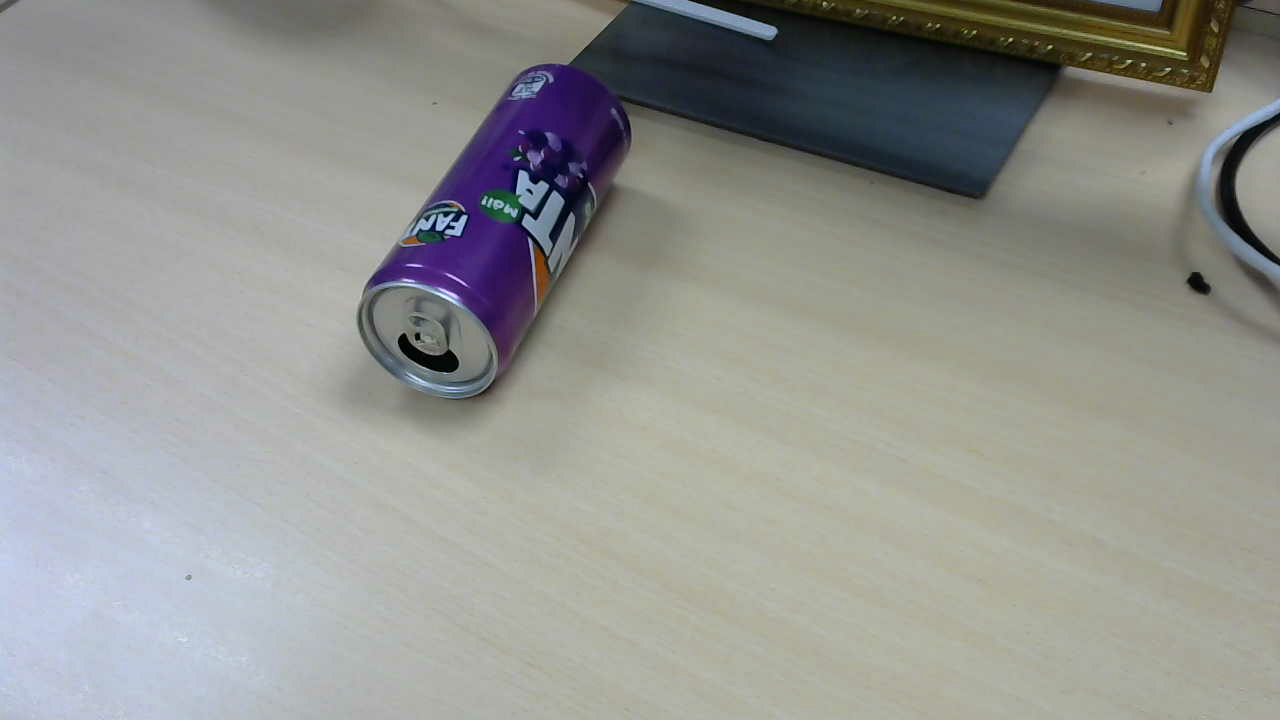Fanta: (363, 64, 642, 403)
